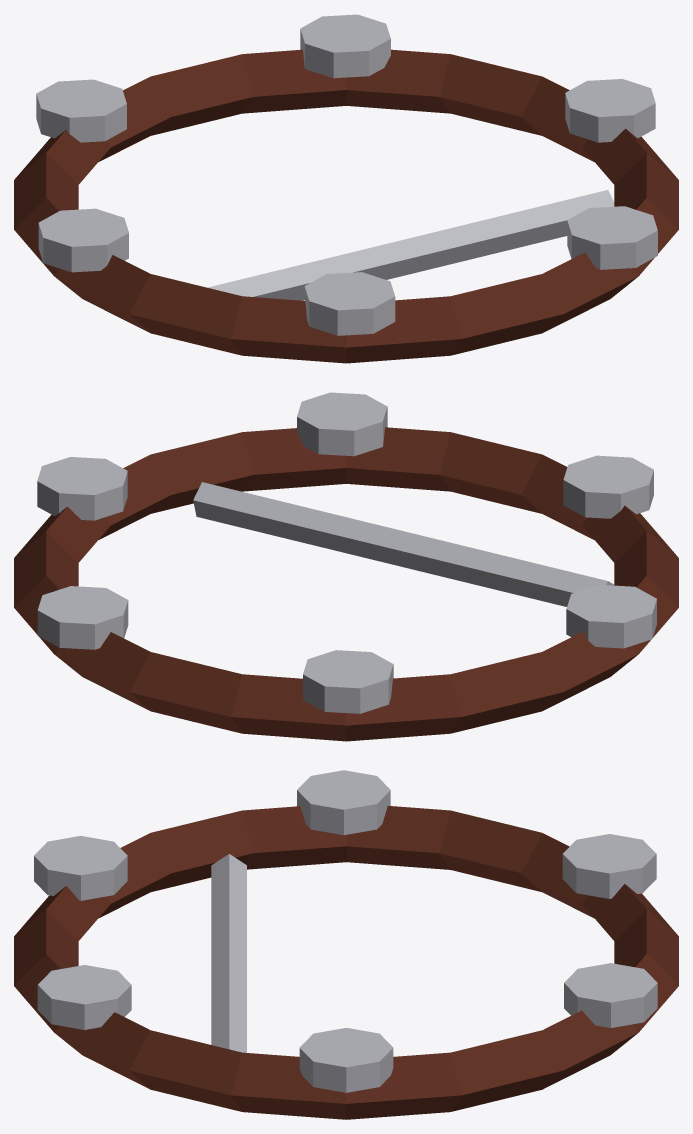
Rendered from TownFind_stable.glb.
3 views of the same model, one above another, from view 1: azimuth 30°, elevation 25°; view 2: azimuth 150°, elevation 25°; view 3: azimuth 270°, elevation 25° (orthographic).
Parts seen in each view (by area): view 1: TownFind_stable.001; view 2: TownFind_stable.001; view 3: TownFind_stable.001.
Boxes of the visible parts, left/top/right/bottom form: TownFind_stable.001: left=14, top=14, right=678, bottom=363; TownFind_stable.001: left=14, top=392, right=678, bottom=741; TownFind_stable.001: left=14, top=770, right=678, bottom=1119.
Bounding box in the file's own units: 0.3 × 0.034 × 0.2836.
